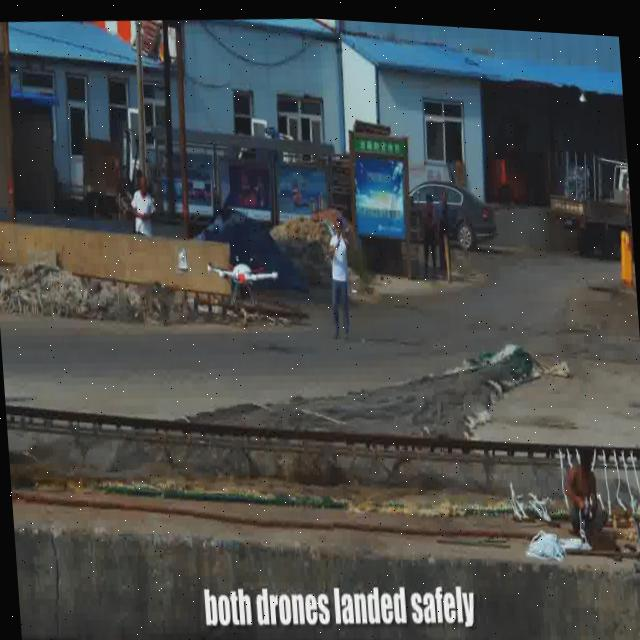drone: (200, 242, 280, 304)
